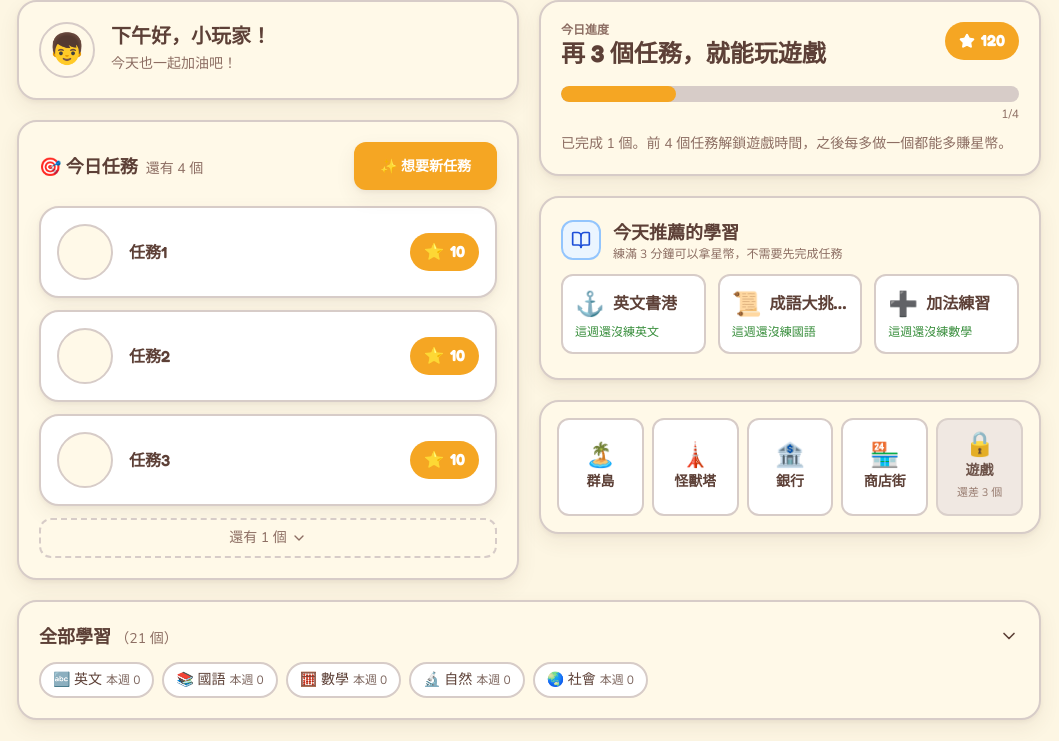
Test: ChildDashboard › 遊戲還沒解鎖時，入口顯示還差幾個，點了給提示
Click the button "🔒 遊戲 還差 3 個".
click(980, 467)  # box left=936, top=418, right=1023, bottom=516
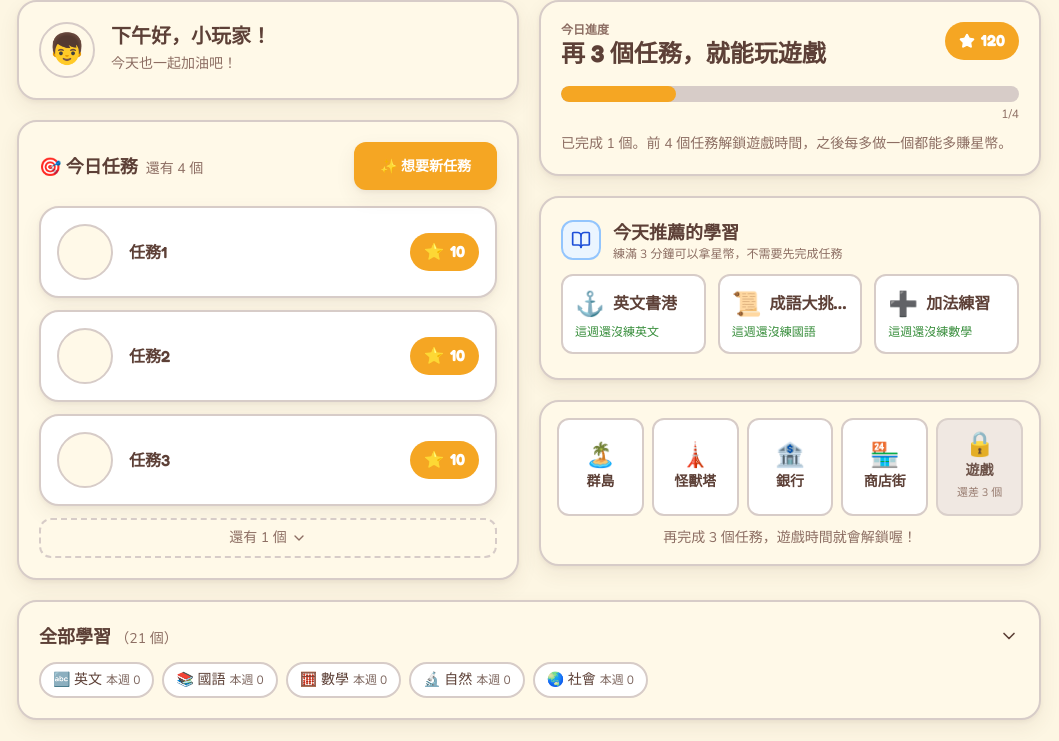
Now the text "再完成 3 個任務，遊戲時間就會解鎖喔！" is shown, box left=663, top=528, right=917, bottom=547
